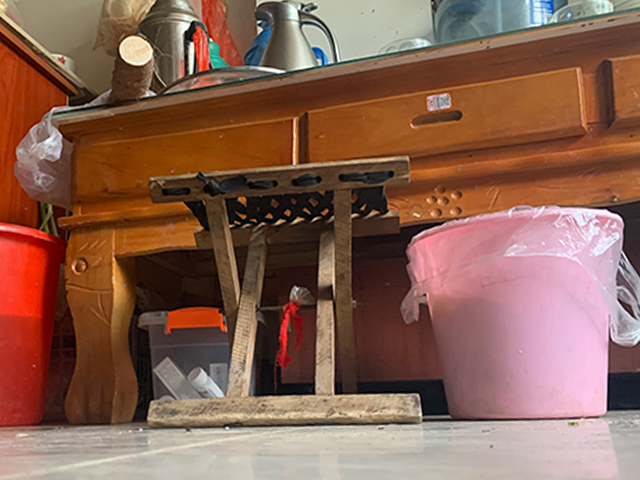stool: (143, 154, 425, 429)
table: (51, 12, 640, 425)
trashcan: (406, 205, 625, 421)
